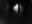person: (14, 3, 20, 16), (20, 5, 25, 17)
